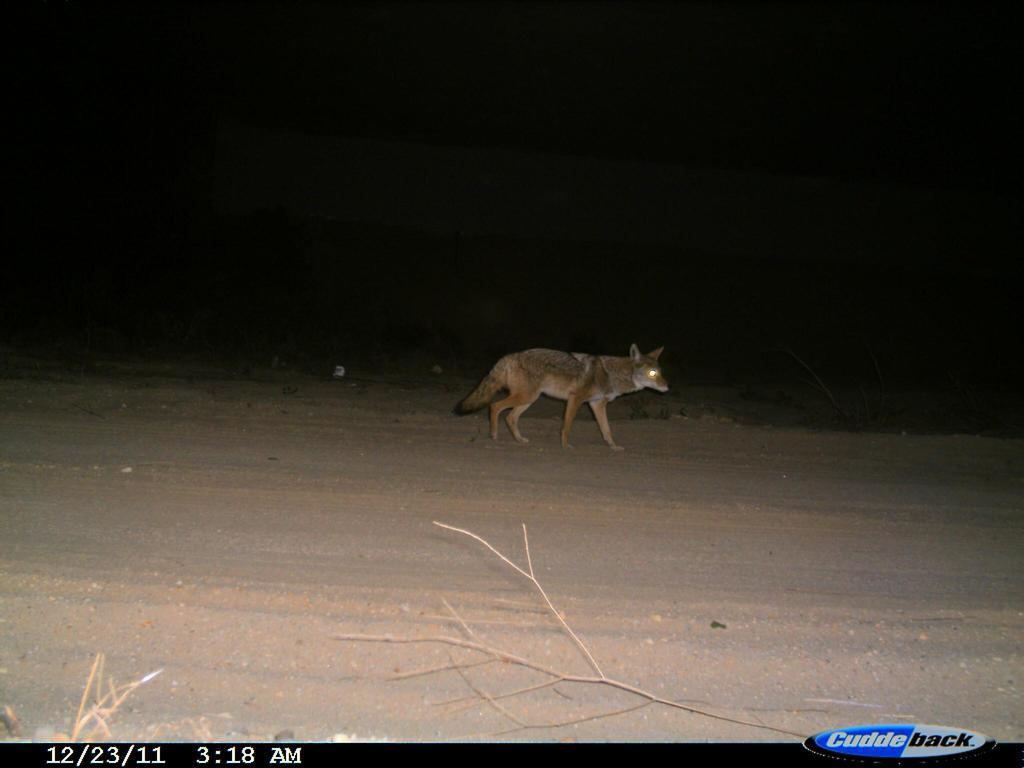coyote: (449, 337, 688, 460)
